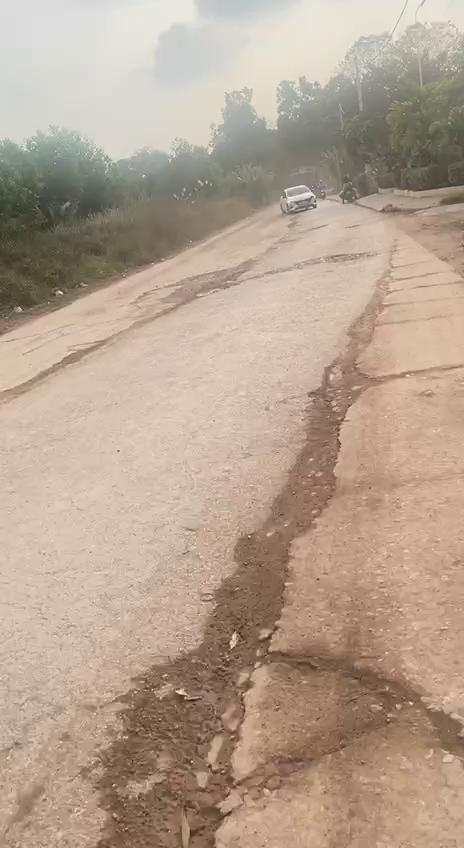pothole: (113, 614, 292, 848), (317, 363, 366, 434)
